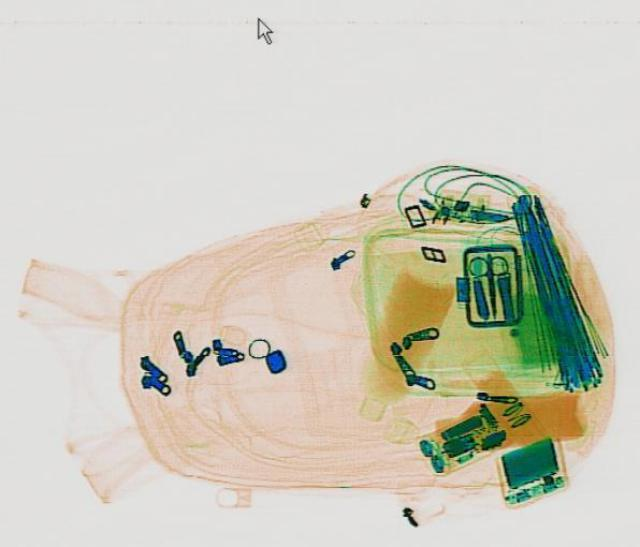Scissors: (466, 254, 512, 319)
